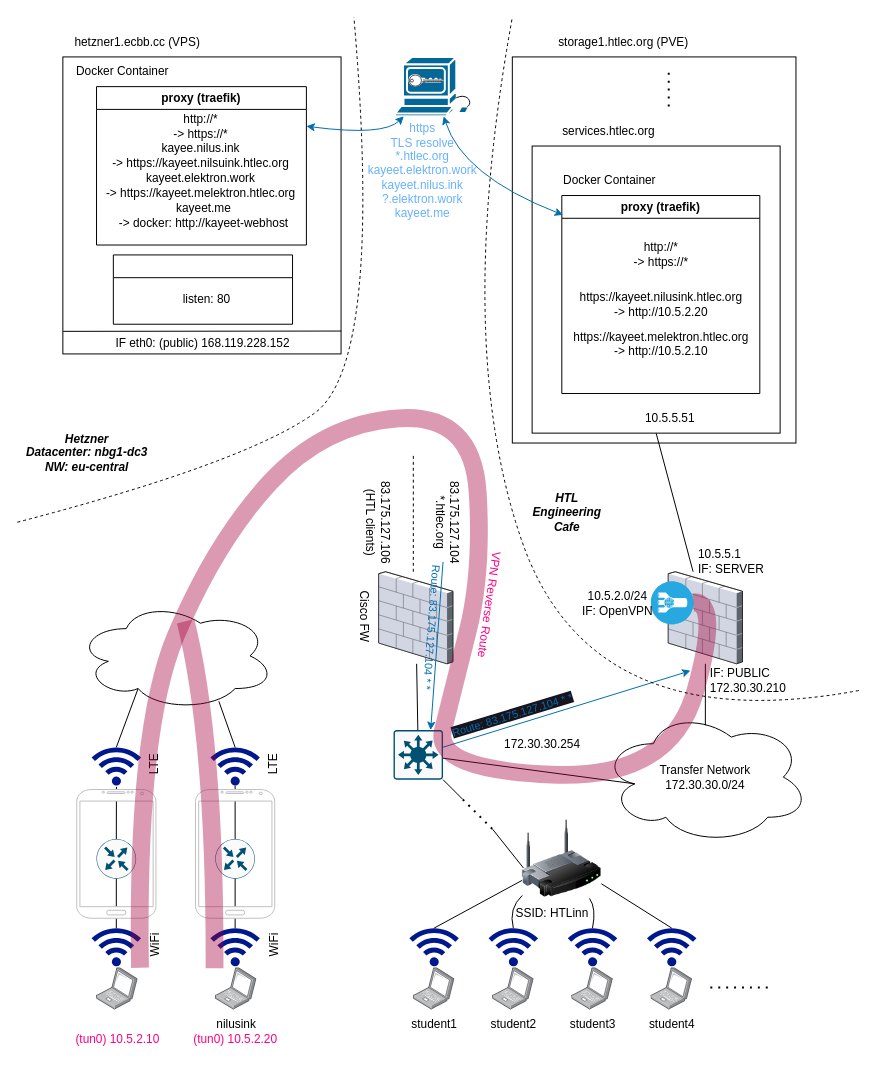
The diagram is 876 pixels wide and 1072 high, and some of its shapes have lost their labels. The box of each missing label's shape, as (x1, y1, x2, y2) in pixels:
elektronlab: (96, 967, 138, 1009)
kayeet-webhost (nginx): (112, 254, 293, 324)
LE TLS Challange Server: (394, 55, 474, 117)
LTE Carrier CGNAT: (76, 600, 275, 710)
Main L3: (393, 729, 443, 780)
pfsens.htlec.org: (668, 571, 742, 663)
